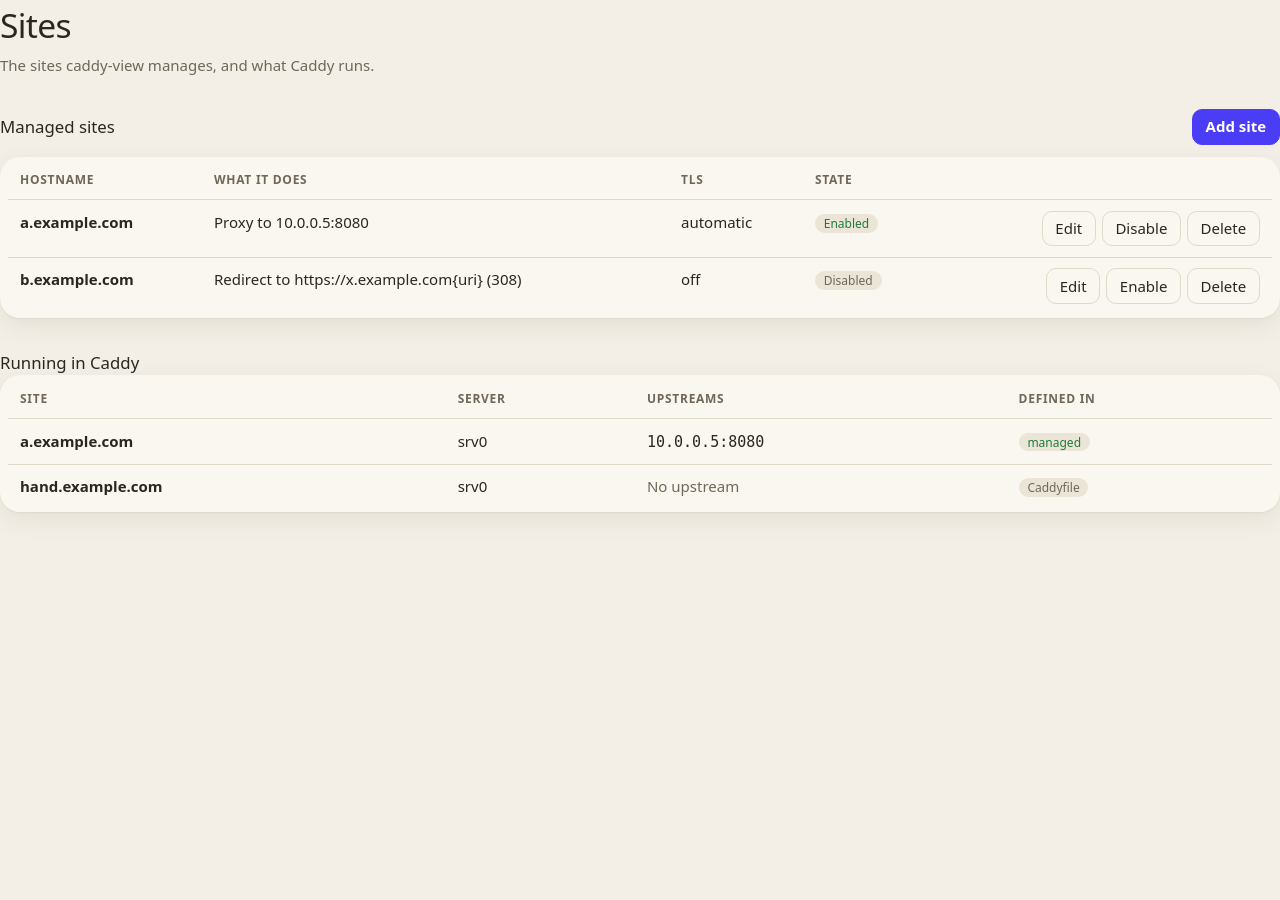
Test case: SitesView adding and changing sites › tells the wizard whether an access log is known
The width and height of the screenshot is (1280, 900).
Expected: the heading "Sites" is shown, [0,2,71,48]
Click the button "Add site" at (1236, 127), box [1192,109,1279,145]
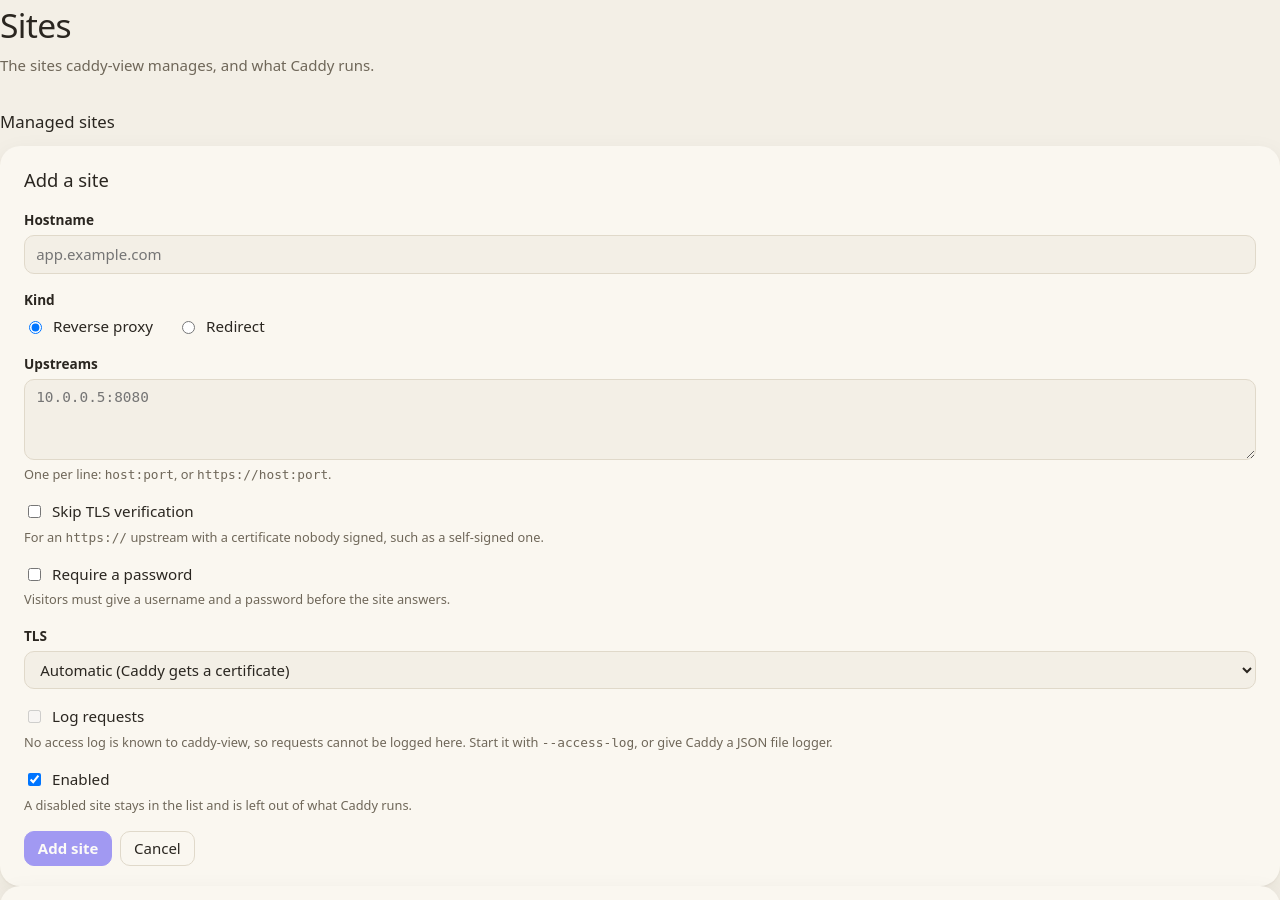
Expected: the checkbox labelled "Log requests" is disabled, [28,710,41,723]
